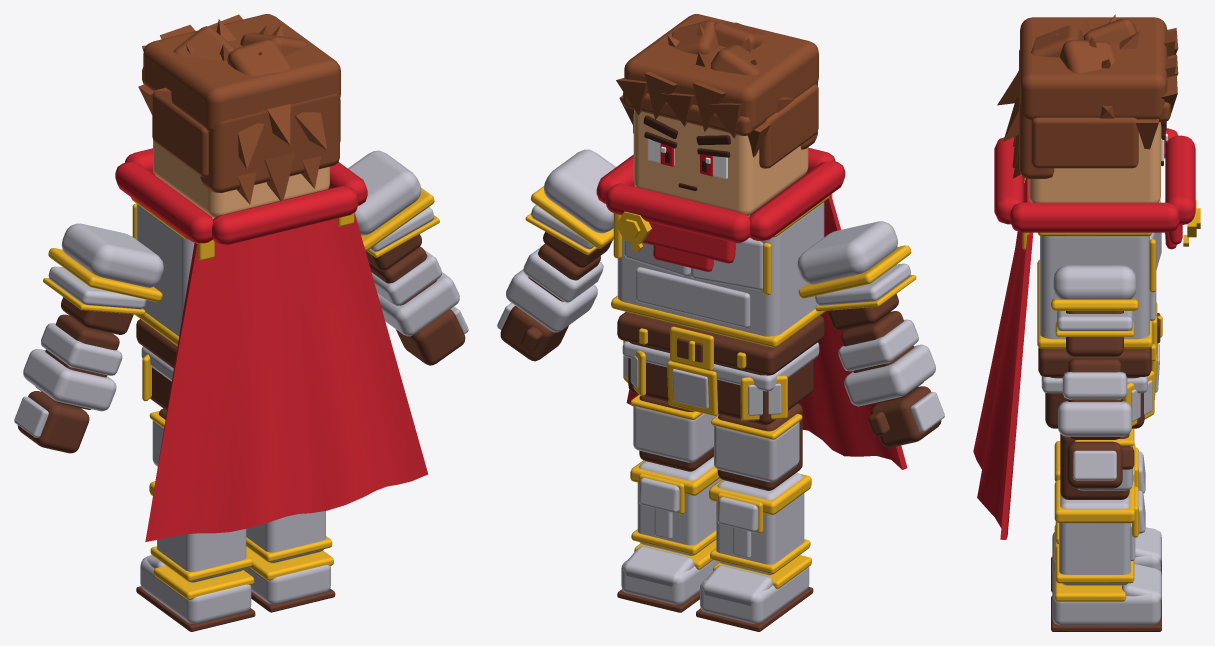
Rendered from warden_male.glb.
3 views of the same model, side by side, from view 1: azimuth 30°, elevation 25°; view 2: azimuth 150°, elevation 25°; view 3: azimuth 270°, elevation 25° (orthographic).
Parts seen in each view (by area): view 1: Cape, Hair, LeftUpperArm, Scarf, LeftLowerArm, RightUpperArm, LeftFoot, RightLowerArm, UpperTorso, RightFoot, Head, LeftLowerLeg (+4 smaller); view 2: Hair, UpperTorso, LowerTorso, Scarf, Head, LeftUpperArm, LeftLowerLeg, RightUpperArm, RightLowerLeg, Cape, LeftLowerArm, LeftFoot (+6 smaller); view 3: Hair, Scarf, Cape, UpperTorso, RightLowerLeg, RightUpperArm, RightFoot, RightLowerArm, Head, LowerTorso, RightHand, RightUpperLeg (+2 smaller).
Part boxes in pixels (x1=…): Cape: x1=145, y1=212, x2=427, y2=541; Hair: x1=138, y1=14, x2=340, y2=204; LeftUpperArm: x1=43, y1=223, x2=163, y2=334; Scarf: x1=115, y1=148, x2=367, y2=244; LeftLowerArm: x1=23, y1=314, x2=122, y2=411; RightUpperArm: x1=348, y1=150, x2=439, y2=270; LeftFoot: x1=136, y1=555, x2=255, y2=631; RightLowerArm: x1=368, y1=246, x2=459, y2=336; UpperTorso: x1=131, y1=197, x2=213, y2=345; RightFoot: x1=243, y1=547, x2=335, y2=612; Head: x1=153, y1=139, x2=329, y2=218; LeftLowerLeg: x1=149, y1=481, x2=252, y2=582; Hair: x1=616, y1=14, x2=818, y2=168; UpperTorso: x1=611, y1=196, x2=829, y2=347; LowerTorso: x1=617, y1=312, x2=824, y2=425; Scarf: x1=596, y1=147, x2=845, y2=271; Head: x1=633, y1=109, x2=808, y2=215; LeftUpperArm: x1=797, y1=221, x2=916, y2=330; LeftLowerLeg: x1=709, y1=472, x2=811, y2=575; RightUpperArm: x1=525, y1=149, x2=615, y2=267; RightLowerLeg: x1=630, y1=456, x2=721, y2=555; Cape: x1=626, y1=194, x2=907, y2=469; LeftLowerArm: x1=838, y1=311, x2=935, y2=406; LeftFoot: x1=696, y1=555, x2=813, y2=631; Hair: x1=997, y1=14, x2=1178, y2=178; Scarf: x1=994, y1=128, x2=1200, y2=249; Cape: x1=973, y1=177, x2=1032, y2=539; UpperTorso: x1=1037, y1=200, x2=1161, y2=348; RightLowerLeg: x1=1054, y1=480, x2=1145, y2=585; RightUpperArm: x1=1051, y1=265, x2=1138, y2=356; RightFoot: x1=1051, y1=564, x2=1161, y2=631; RightLowerArm: x1=1058, y1=358, x2=1131, y2=439; Head: x1=1028, y1=121, x2=1167, y2=202; LowerTorso: x1=1038, y1=302, x2=1162, y2=428; RightHand: x1=1067, y1=441, x2=1134, y2=488; RightUpperLeg: x1=1060, y1=428, x2=1134, y2=499.
Size of the model in its own units: 4.36 by 5.46 by 1.97.
